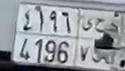1: (35, 7, 44, 64)
4: (19, 9, 32, 61)
6: (57, 11, 71, 64)
9: (45, 10, 57, 63)
J: (93, 17, 105, 64)
V: (80, 18, 92, 61)
